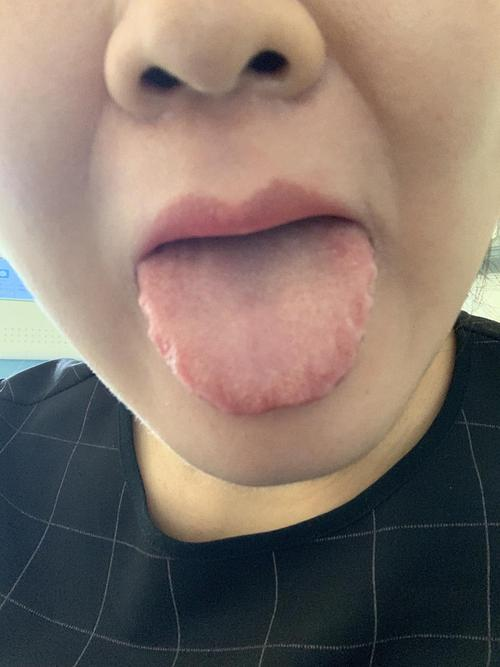baitaishe: (138, 215, 376, 415)
chihenshe: (330, 292, 372, 390), (140, 299, 175, 373)
